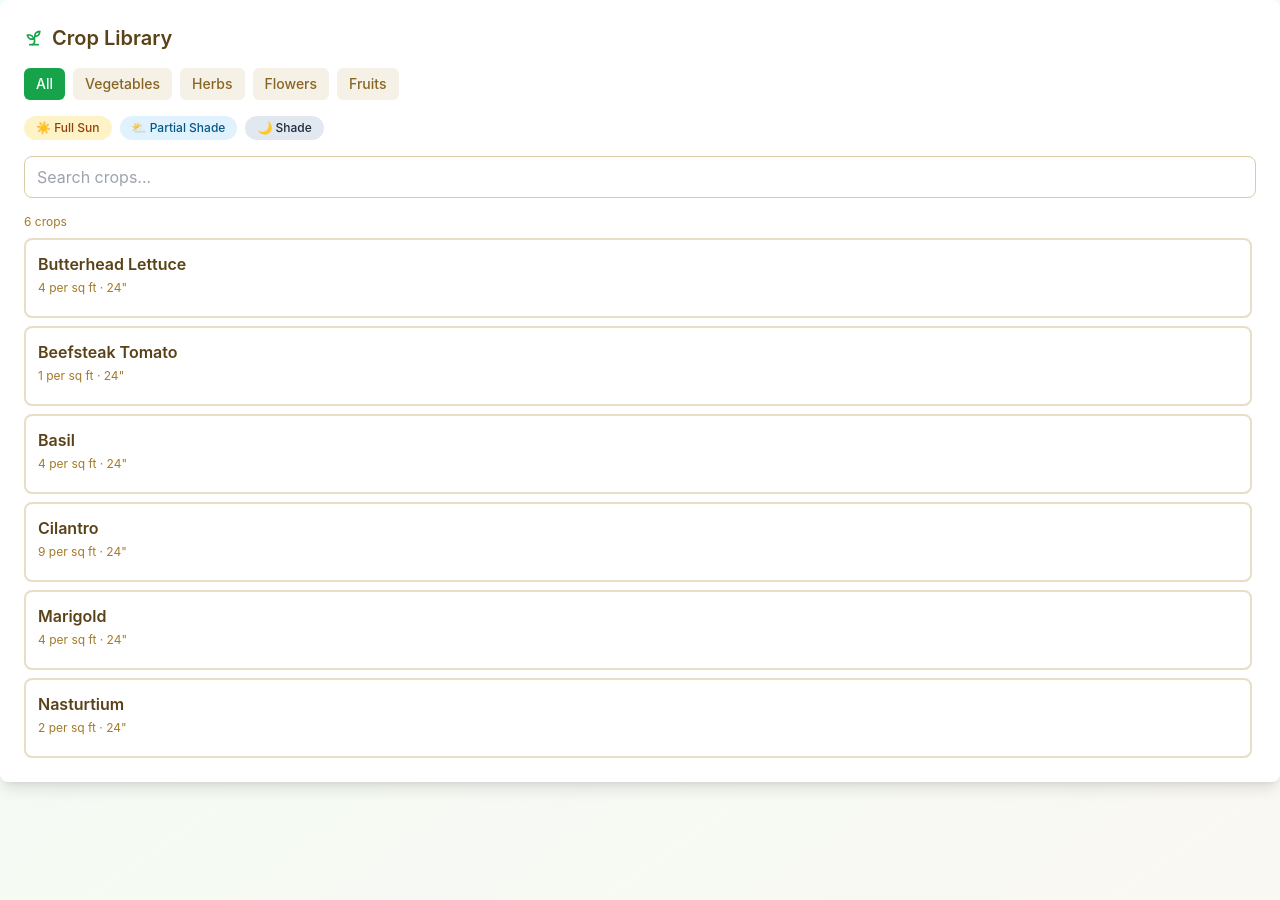
Scenario: CropLibrary › Category Tabs (TODO-028) › shows only herbs when "Herbs" tab is clicked
Click the button "Herbs" at (212, 84), box [180,68,244,100]
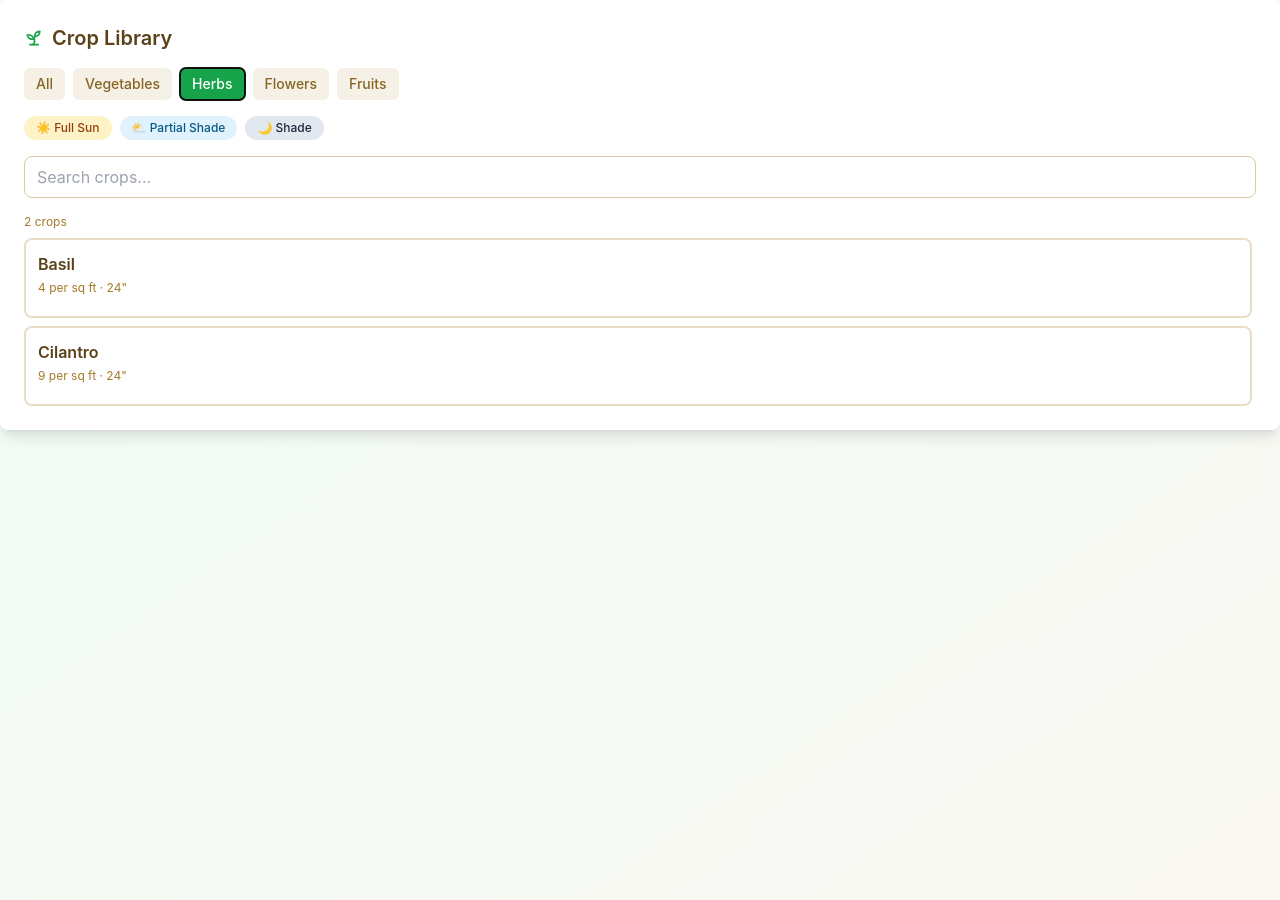
Expected: the button "Butterhead Lettuce" is gone
Expected: the button "Beefsteak Tomato" is gone
Expected: the button "Marigold" is gone
